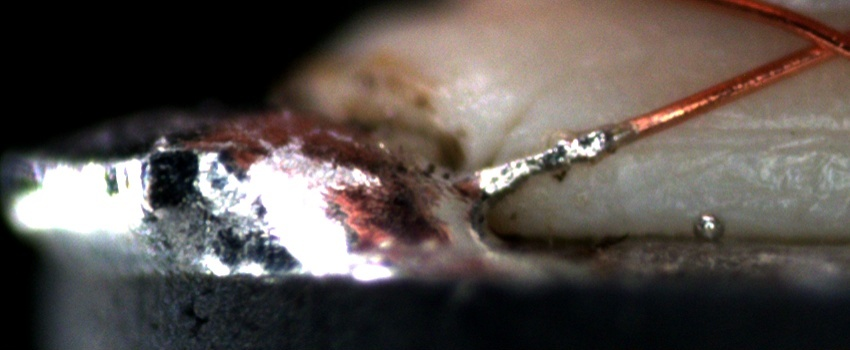CL: (780, 13, 847, 72)
DL: (644, 99, 850, 163)
TS: (487, 119, 632, 196)
TTCW: (468, 111, 675, 199)
